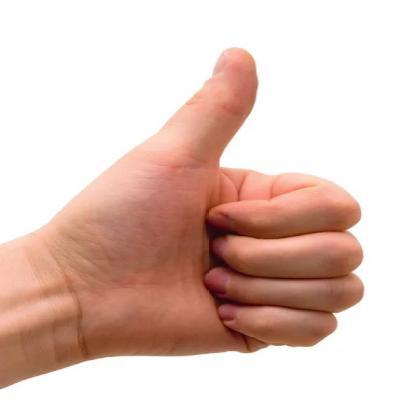thumb_up: (60, 44, 367, 362)
